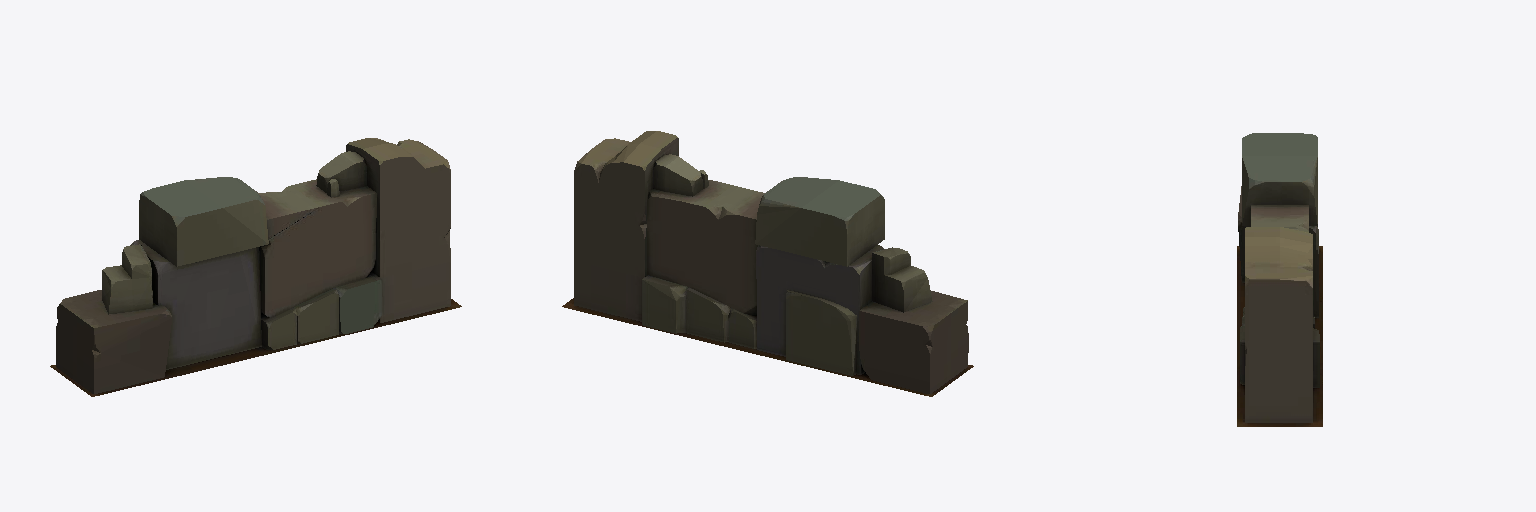
3 renders of one model, left to right at view 1: azimuth 30°, elevation 25°; view 2: azimuth 150°, elevation 25°; view 3: azimuth 270°, elevation 25°, orthographic.
Visible parts, largest first — view 1: OBJ_MIDRock_03; view 2: OBJ_MIDRock_03; view 3: OBJ_MIDRock_03.
Part boxes in pixels (bbox=[...]): OBJ_MIDRock_03: bbox=[50, 138, 461, 396]; OBJ_MIDRock_03: bbox=[562, 131, 973, 396]; OBJ_MIDRock_03: bbox=[1237, 133, 1322, 426].
Size of the model in its own units: 6 by 2.51 by 1.2.
1 materials, 1 textured.